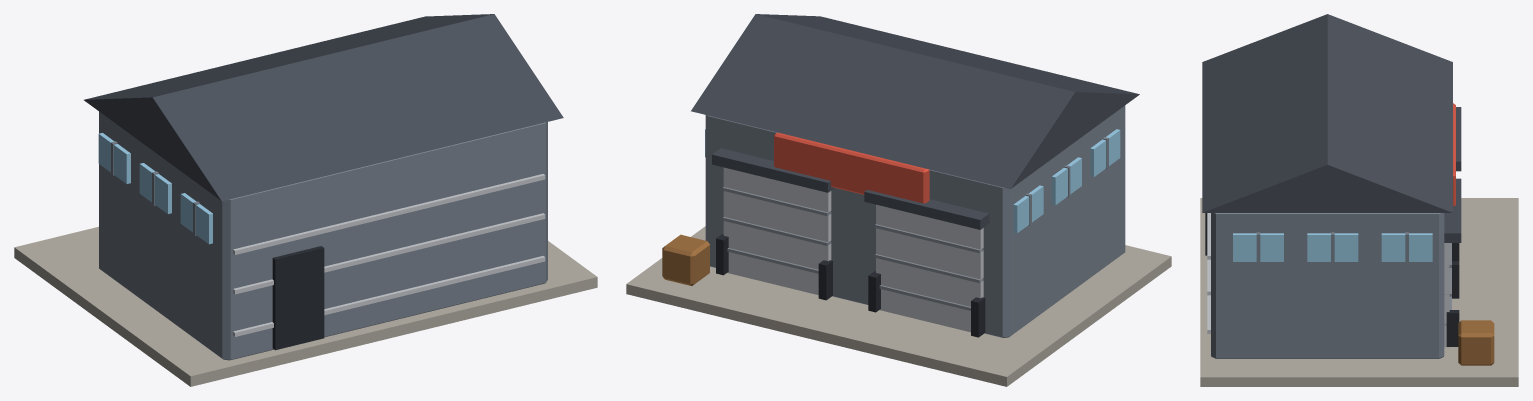
The model's file is warehouse.glb.
The picture shows the model from 3 angles, left to right: view 1: azimuth 30°, elevation 25°; view 2: azimuth 150°, elevation 25°; view 3: azimuth 270°, elevation 25°; orthographic projection. The views are drawn at different scales.
Parts seen in each view (by area): view 1: warehouse; view 2: warehouse; view 3: warehouse.
Part boxes in pixels (left/top/right/bottom): warehouse: left=14, top=14, right=597, bottom=386; warehouse: left=626, top=14, right=1171, bottom=386; warehouse: left=1200, top=14, right=1518, bottom=386.
Bounding box in the file's own units: 4 × 2.16 × 3.
1 material, 1 textured.
